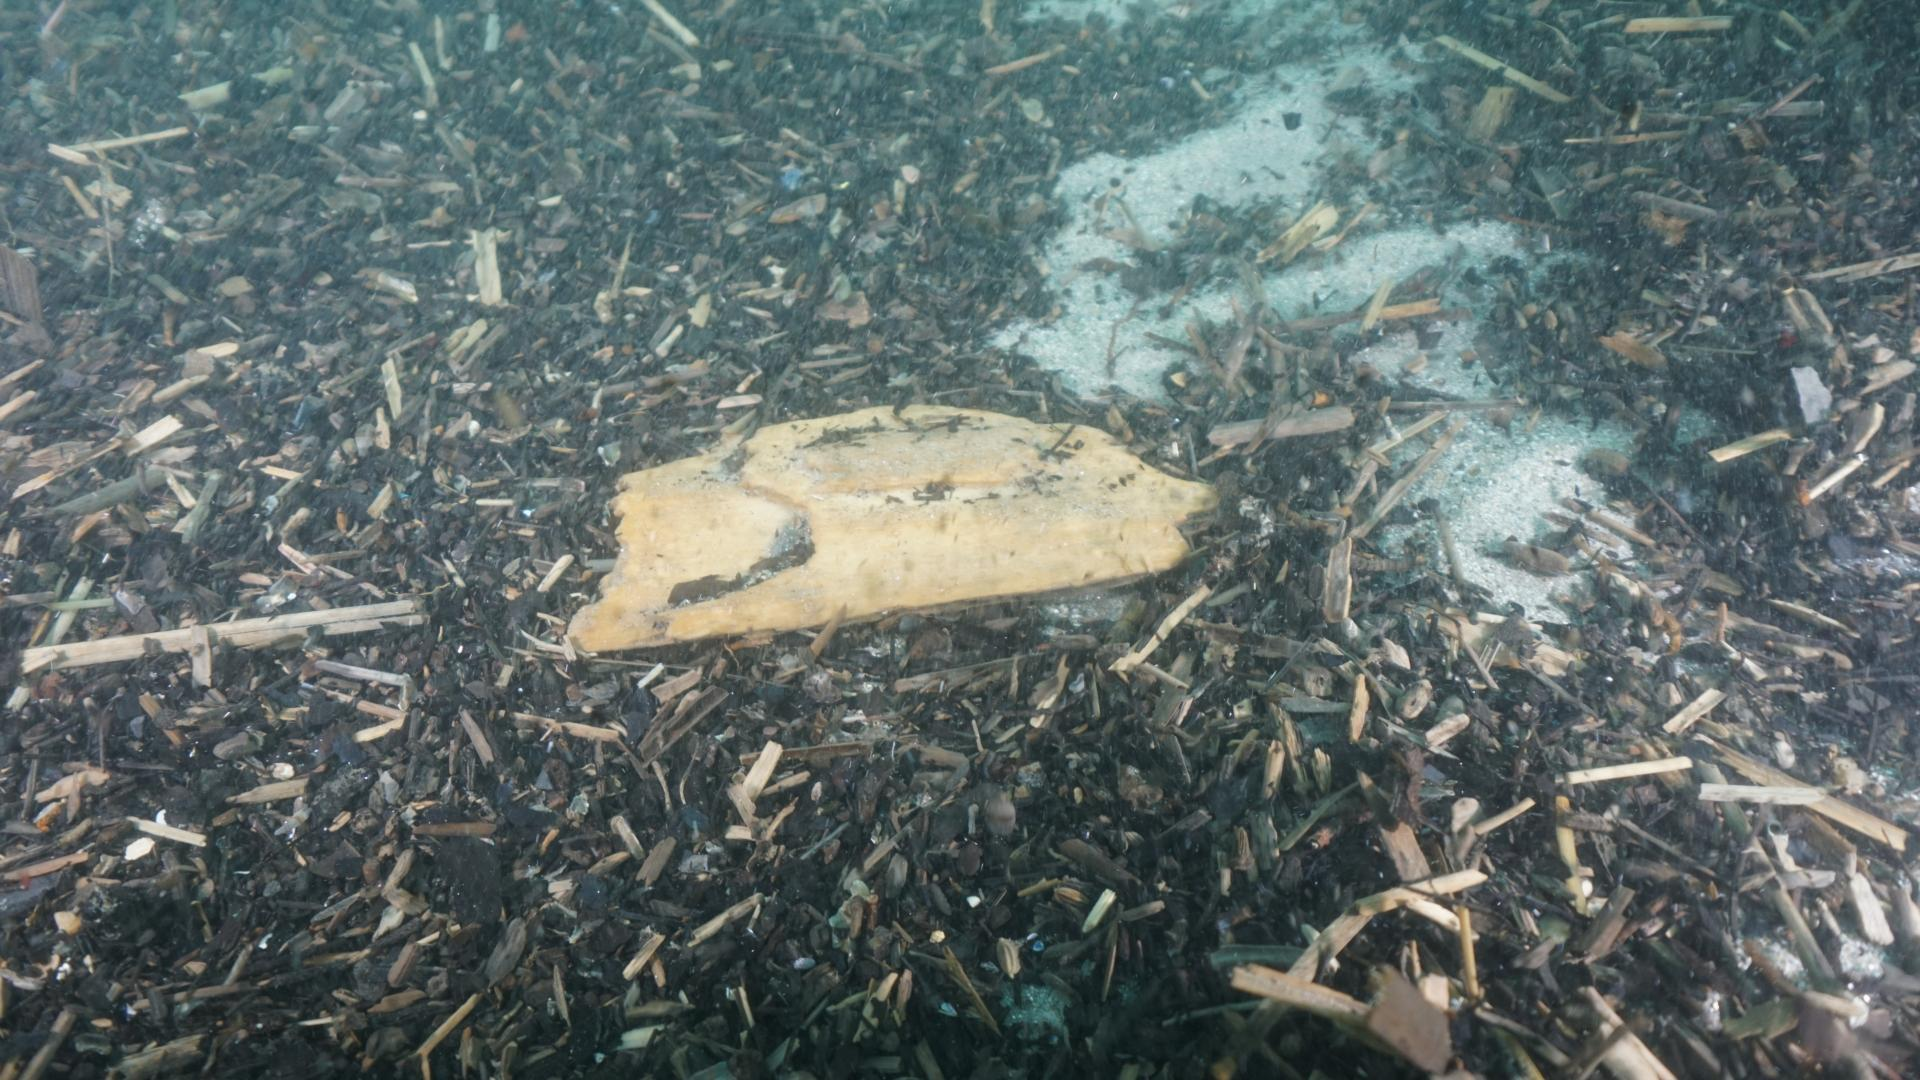wood: (560, 398, 1220, 670)
